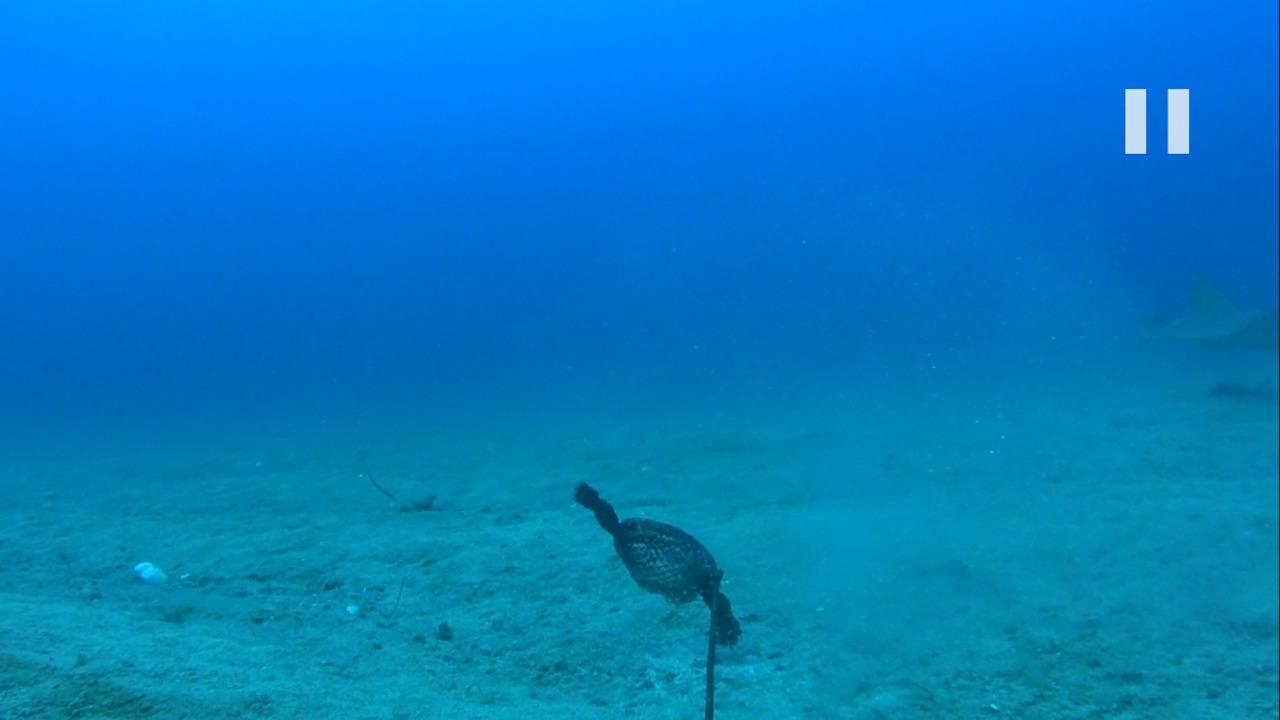myliobatis: (906, 261, 1279, 365)
